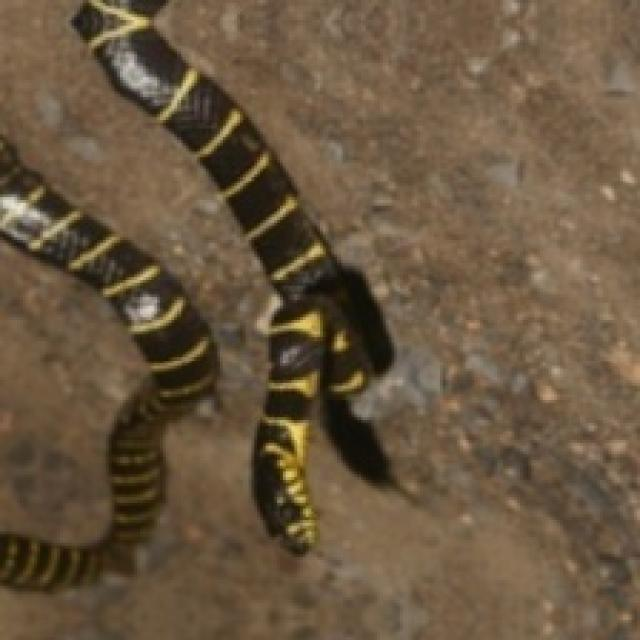mangrove cat snake: (74, 0, 389, 549), (0, 139, 219, 588)
